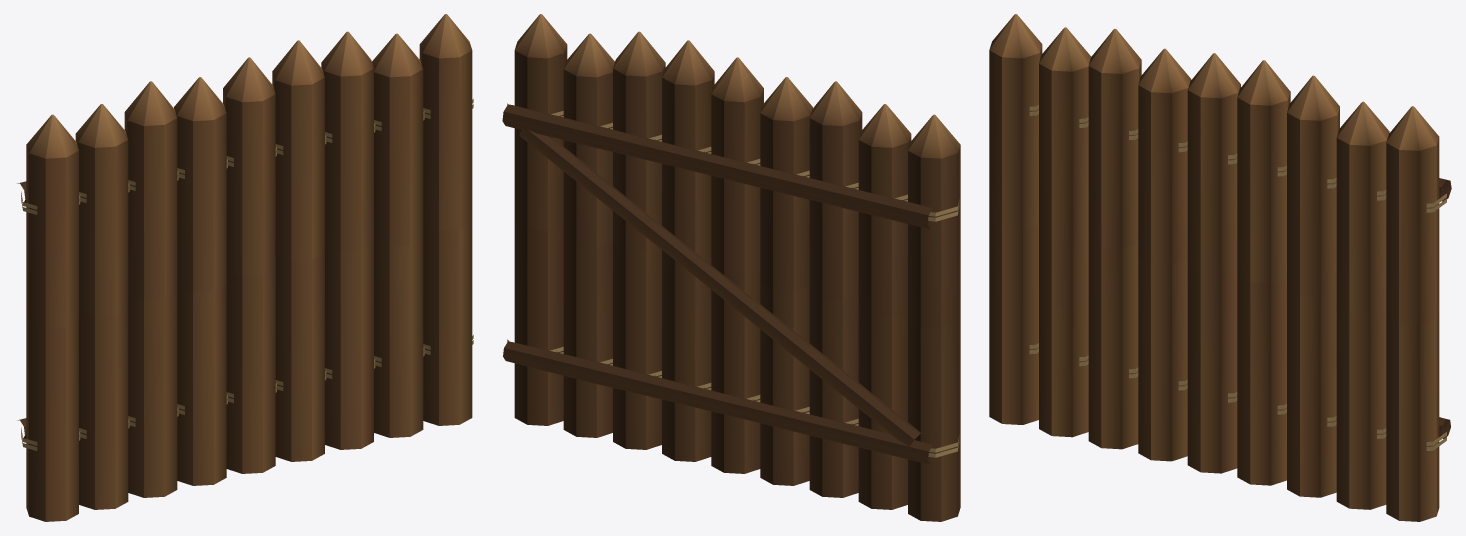
The model's file is gate.glb.
3 views of the same model, side by side, from view 1: azimuth 30°, elevation 25°; view 2: azimuth 150°, elevation 25°; view 3: azimuth 330°, elevation 25° (orthographic).
Visible parts, largest first — view 1: gate_solid; view 2: gate_solid; view 3: gate_solid.
Boxes of the visible parts, bbox=[...] form: gate_solid: bbox=[17, 14, 473, 521]; gate_solid: bbox=[502, 14, 960, 521]; gate_solid: bbox=[989, 14, 1451, 521].
Bounding box in the file's own units: 2.56 × 2.26 × 0.3617.
